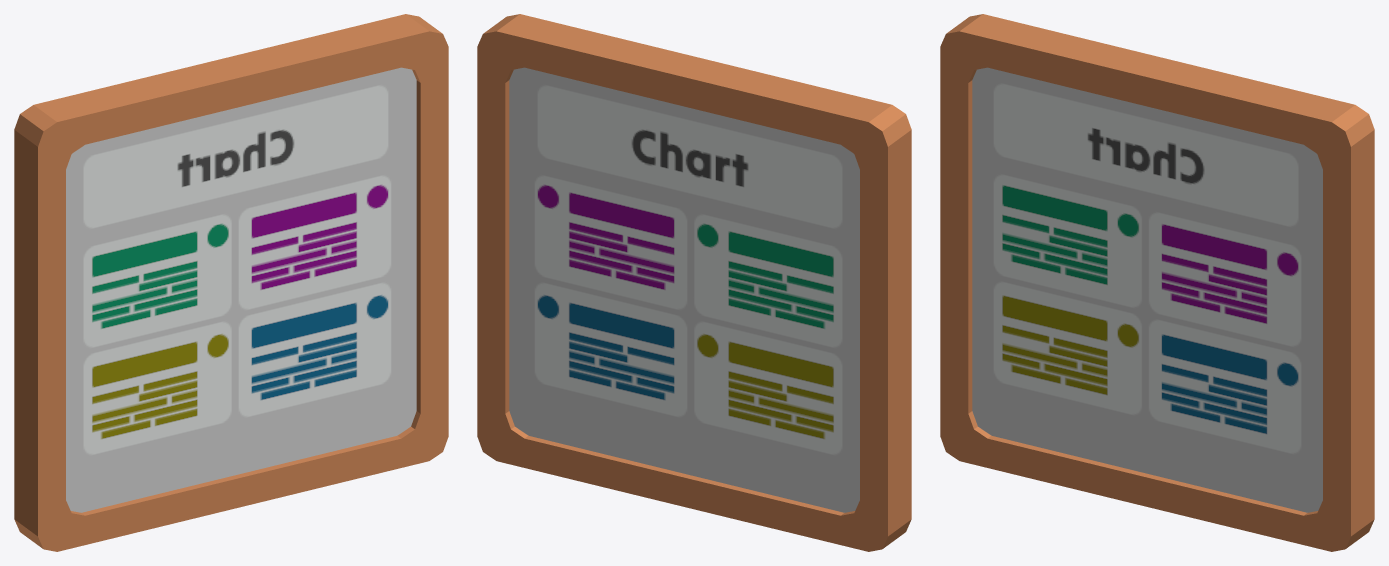
File: Props_Poster_06.fbx
3 views of the same model, side by side, from view 1: azimuth 30°, elevation 25°; view 2: azimuth 150°, elevation 25°; view 3: azimuth 330°, elevation 25° (orthographic).
Parts seen in each view (by area): view 1: Props_Poster_06; view 2: Props_Poster_06; view 3: Props_Poster_06.
Boxes of the visible parts, box(x1,y1,x2,y2) form: Props_Poster_06: box(14, 14, 448, 551); Props_Poster_06: box(477, 14, 911, 551); Props_Poster_06: box(940, 14, 1374, 551).
Size of the model in its own units: 100 by 100 by 10.
